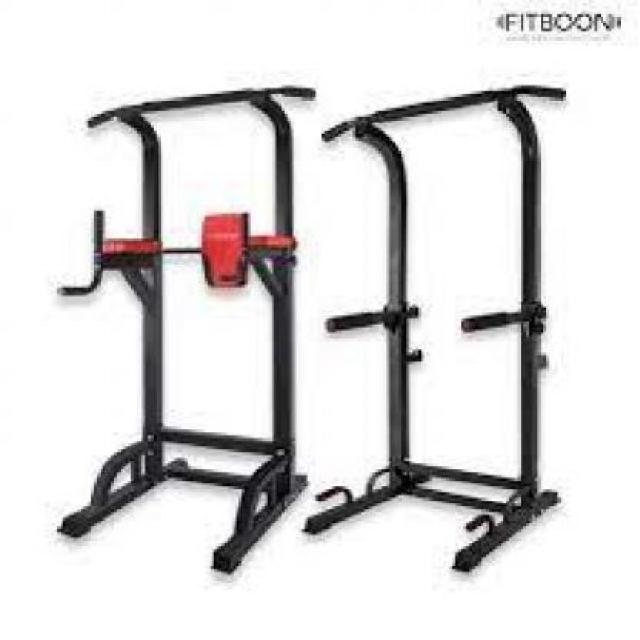chinning dipping: (305, 79, 569, 578), (58, 83, 314, 575)
